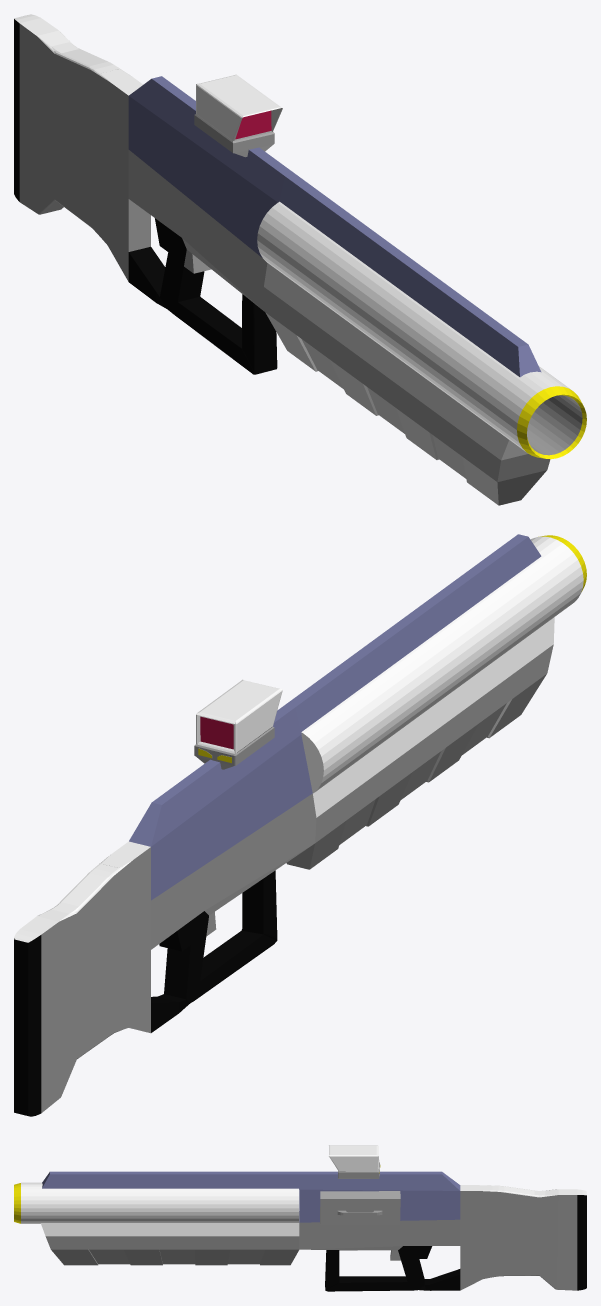
Rendered from ShoulderRocketLauncher.fbx.
The picture shows the model from 3 angles, top to bottom: view 1: azimuth 30°, elevation 25°; view 2: azimuth 150°, elevation 25°; view 3: azimuth 270°, elevation 25°; orthographic projection. The views are drawn at different scales.
Parts seen in each view (by area): view 1: Body, Sight; view 2: Body, Sight; view 3: Body, Magazine, Sight.
Boxes of the visible parts, x1=… form: Body: x1=14, y1=14, x2=586, y2=505; Sight: x1=194, y1=74, x2=282, y2=157; Body: x1=14, y1=534, x2=586, y2=1116; Sight: x1=194, y1=679, x2=282, y2=769; Body: x1=14, y1=1171, x2=586, y2=1291; Magazine: x1=320, y1=1191, x2=400, y2=1225; Sight: x1=329, y1=1145, x2=380, y2=1178.
Bounding box in the file's own units: 177 × 658 × 2463.
1 material, 1 textured.
